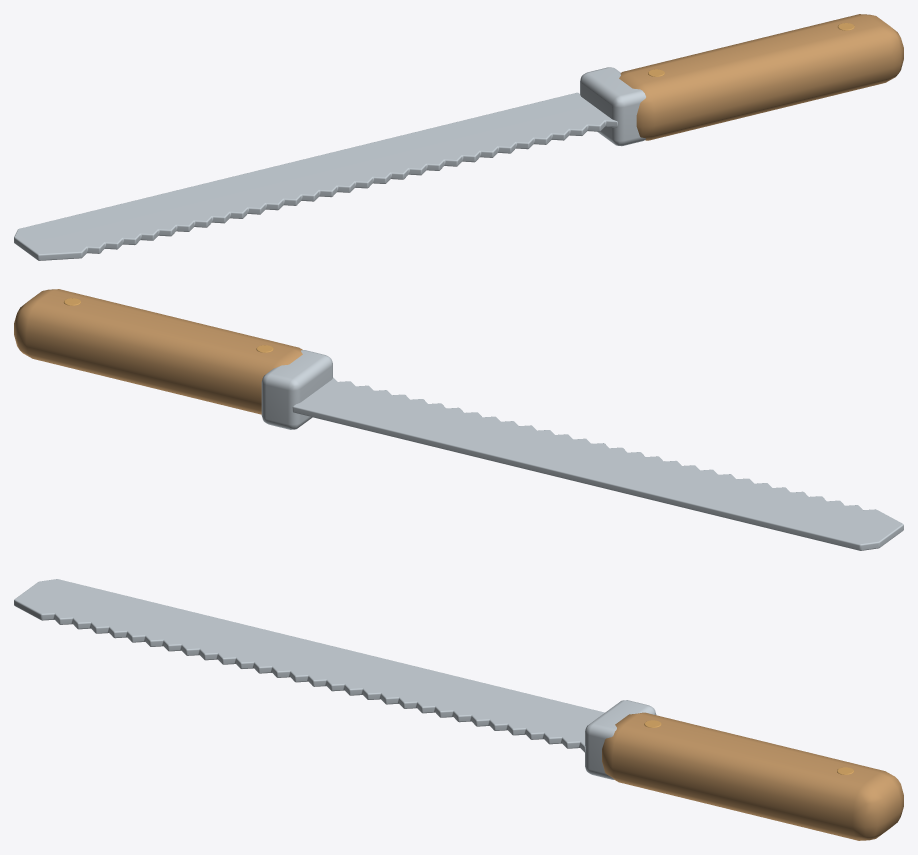
File: BreadKnife.glb
3 views of the same model, one above another, from view 1: azimuth 30°, elevation 25°; view 2: azimuth 150°, elevation 25°; view 3: azimuth 330°, elevation 25° (orthographic).
Visible parts, largest first — view 1: Ground blade.002, Contoured grip.002, Bolster.002; view 2: Ground blade.002, Contoured grip.002, Bolster.002; view 3: Ground blade.002, Contoured grip.002, Bolster.002.
Boxes of the visible parts, x1,y1,x2,y2 form: Ground blade.002: (14,92,617,260); Contoured grip.002: (619,14,903,140); Bolster.002: (580,67,645,146); Ground blade.002: (292,377,903,550); Contoured grip.002: (14,289,302,414); Bolster.002: (261,350,332,429); Ground blade.002: (14,579,604,752); Contoured grip.002: (602,712,903,840); Bolster.002: (585,700,656,779).
Size of the model in its own units: 0.324 by 0.0205 by 0.0292.
